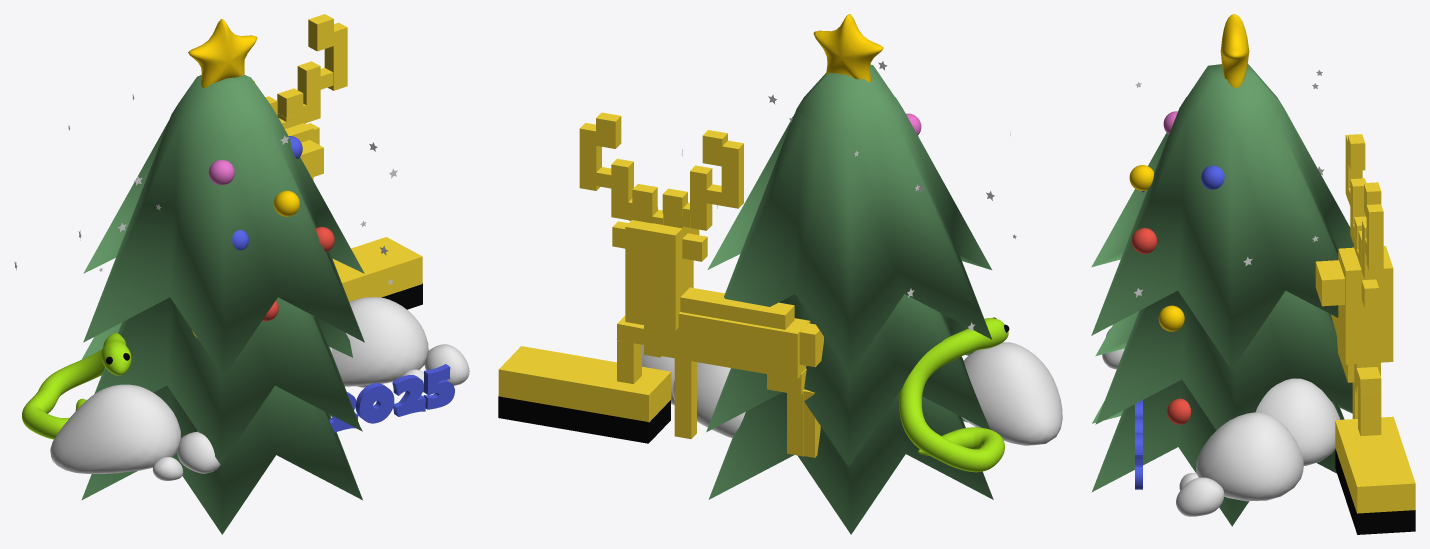
3 views of the same model, side by side, from view 1: azimuth 30°, elevation 25°; view 2: azimuth 150°, elevation 25°; view 3: azimuth 270°, elevation 25° (orthographic).
Visible parts, largest first — view 1: Cylinder.003, Cylinder.001, Cylinder.002, Sphere.018, Cube.001, Sphere.013, Zmeya, Text, Zvezda, Sphere.009, Sphere.010; view 2: Cylinder.003, Cube.001, Cylinder.001, Cylinder.002, Sphere.018, Zmeya, Zvezda, Sphere.001; view 3: Cylinder.003, Cube.001, Cylinder.001, Sphere.013, Cylinder.002, Sphere.001, Zvezda, Text, Sphere.005, Sphere.011, Sphere.009, Sphere.007 (+1 smaller).
Part boxes in pixels (x1,y1,x2,y2): Cylinder.003: (83,74,364,376); Cylinder.001: (82,297,361,464); Cylinder.002: (81,385,362,534); Sphere.018: (50,384,220,480); Cube.001: (243,14,422,309); Sphere.013: (331,297,469,392); Zmeya: (22,333,131,439); Text: (329,364,454,432); Zvezda: (188,19,257,87); Sphere.009: (274,190,299,216); Sphere.010: (208,160,234,184); Cylinder.003: (707,64,992,374); Cube.001: (498,112,823,457); Cylinder.001: (706,294,989,466); Cylinder.002: (708,392,993,534); Sphere.018: (961,342,1062,445); Zmeya: (899,317,1009,472); Zvezda: (813,14,883,82); Sphere.001: (672,362,745,437); Cylinder.003: (1091,63,1353,369); Cube.001: (1315,134,1415,534); Cylinder.001: (1095,290,1352,430); Sphere.013: (1176,412,1303,516); Cylinder.002: (1092,379,1352,526); Sphere.001: (1256,378,1340,465); Zvezda: (1220,14,1249,88); Text: (1135,400,1142,489); Sphere.005: (1158,305,1184,331); Sphere.011: (1131,228,1156,253); Sphere.009: (1129,165,1154,190); Sphere.007: (1167,398,1190,424).
Size of the model in its own units: 1.98 by 1.88 by 1.24.
Materials: 11 (1 with a texture image).
